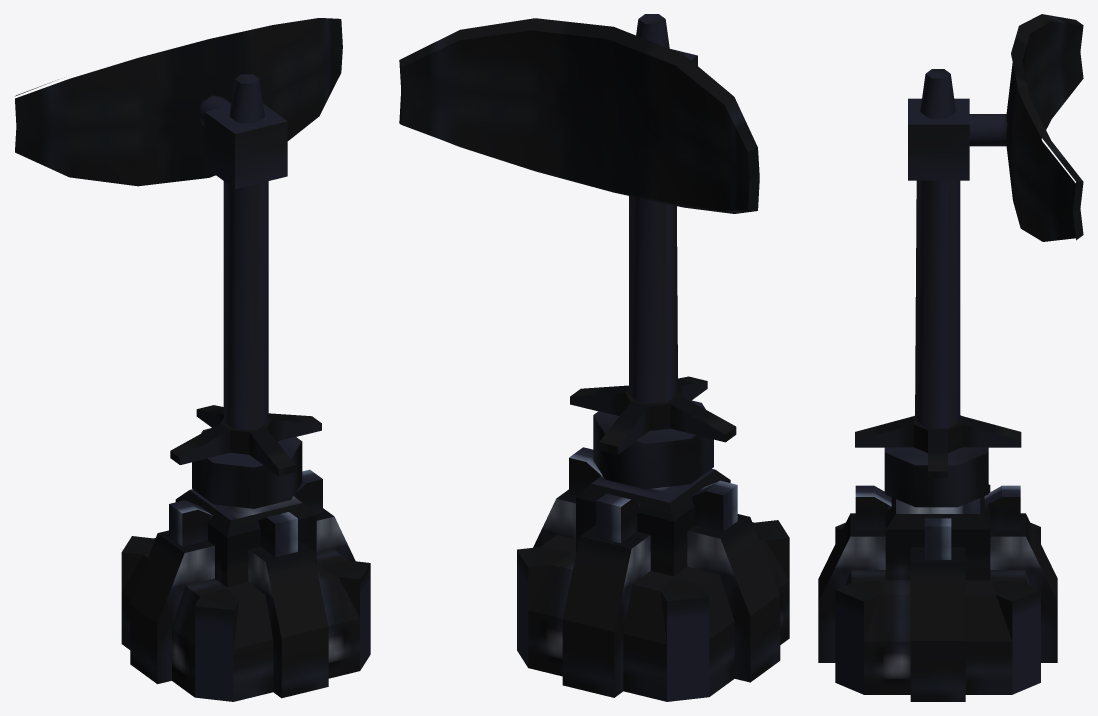
File: armrad_blue.glb
3 renders of one model, left to right at view 1: azimuth 30°, elevation 25°; view 2: azimuth 150°, elevation 25°; view 3: azimuth 270°, elevation 25°, orthographic. The views are drawn at different scales.
Visible parts, largest first — view 1: base, dish, turret; view 2: base, dish, turret; view 3: base, turret, dish.
Part boxes in pixels (box(x1,y1,x2,y2)): base: box(121, 469, 370, 701); dish: box(15, 18, 342, 186); turret: box(170, 74, 321, 508); base: box(517, 447, 789, 701); dish: box(399, 18, 759, 213); turret: box(570, 14, 736, 489); base: box(818, 484, 1057, 701); turret: box(855, 69, 1021, 507); dish: box(969, 14, 1083, 241).
Bounding box in the file's own units: 43.76 × 75.36 × 30.29.
Materials: 1 (1 with a texture image).
